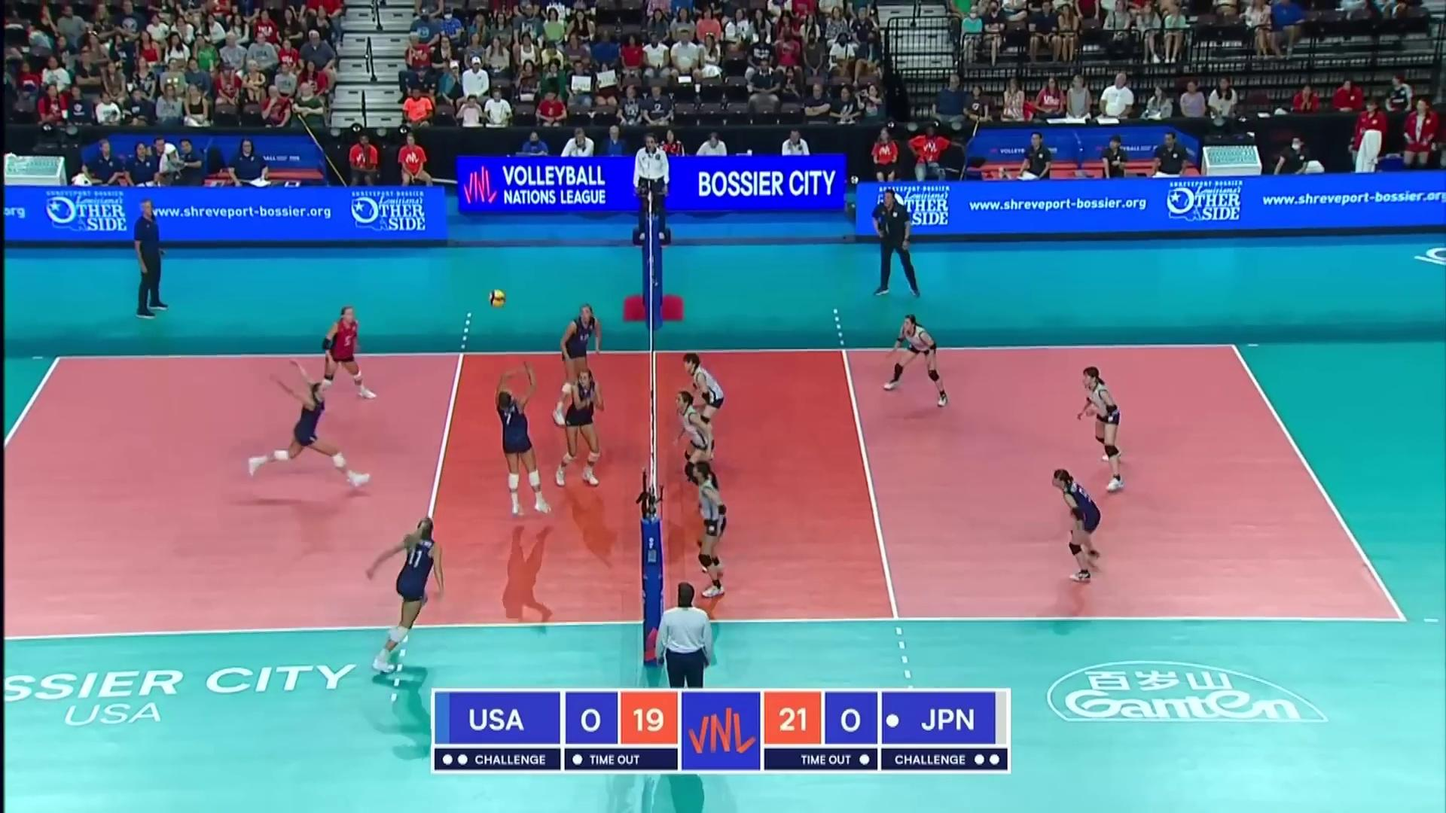player: (246, 366, 373, 491), (366, 517, 443, 676), (495, 360, 552, 518), (1075, 366, 1130, 491), (550, 303, 602, 425), (1050, 470, 1103, 586), (882, 315, 948, 407), (312, 306, 375, 400), (556, 370, 604, 490), (691, 461, 730, 594), (674, 393, 716, 507), (681, 352, 725, 460)
refree: (656, 582, 713, 698), (630, 133, 670, 242)
